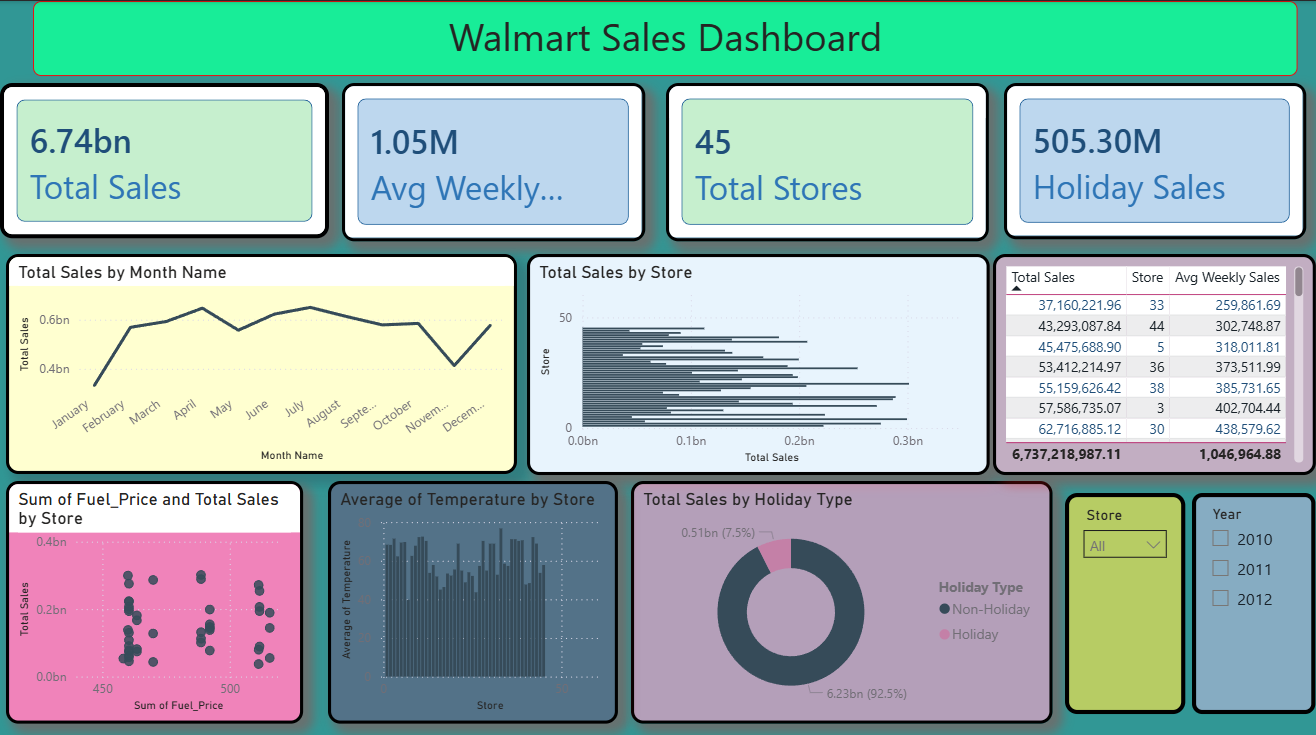

This screenshot's page, from the dashboard's own definition file:
{"tool":"powerbi","page":{"name":"Page 1","canvas":[1280,720],"ordinal":0},"visuals":[{"type":"cardVisual","fields":{"Data":["Walmart.Total Sales"]},"box":[0,79.8,320,151],"z":0},{"type":"cardVisual","fields":{"Data":["Walmart.Avg Weekly Sales"]},"box":[332.6,79.8,294.7,153.7],"z":1000},{"type":"cardVisual","fields":{"Data":["Walmart.Total Stores"]},"box":[647.8,79.8,314.2,153.7],"z":2000},{"type":"cardVisual","fields":{"Data":["Walmart.Holiday Sales"]},"box":[976.5,79.8,293.7,151.7],"z":3000},{"type":"lineChart","fields":{"Y":["Walmart.Total Sales"],"Category":["Walmart.Month Name"]},"box":[5.7,245.7,497,213.5],"z":4000},{"type":"clusteredBarChart","fields":{"Category":["Walmart.Store"],"Y":["Walmart.Total Sales"]},"box":[512.1,245.7,449.8,215.4],"z":5000},{"type":"slicer","fields":{"Values":["Walmart.Year"]},"box":[1159.4,478.5,119.6,215],"z":6000},{"type":"donutChart","fields":{"Y":["Walmart.Total Sales"],"Category":["Walmart.Holiday Type"]},"box":[614.2,466.8,410.1,236.2],"z":7000},{"type":"tableEx","fields":{"Values":["Walmart.Total Sales","Walmart.Store","Walmart.Avg Weekly Sales"]},"box":[965.8,246.1,314.2,215],"z":8000},{"type":"slicer","fields":{"Values":["Walmart.Store"]},"box":[1035.9,478.5,116.7,215],"z":9000},{"type":"textbox","box":[32.1,0,1230.4,72.9],"z":10000},{"type":"scatterChart","fields":{"X":["Sum(Walmart.Fuel_Price)"],"Y":["Walmart.Total Sales"],"Category":["Walmart.Store"]},"box":[5.7,466.8,289.1,236.2],"z":11000},{"type":"clusteredColumnChart","fields":{"Category":["Walmart.Store"],"Y":["Avg(Walmart.Temperature)"]},"box":[319.4,466.8,281.6,236.2],"z":12000}]}

Visuals, with their boxes in screenshot pixels (x1, y1, x2, y2), scaled from the page's 1280x720 canvas onto the 1316x735 screenshot:
cardVisual - Walmart.Total Sales: bbox(0, 81, 329, 236)
cardVisual - Walmart.Avg Weekly Sales: bbox(342, 81, 645, 238)
cardVisual - Walmart.Total Stores: bbox(666, 81, 989, 238)
cardVisual - Walmart.Holiday Sales: bbox(1004, 81, 1306, 236)
lineChart - Walmart.Total Sales x Walmart.Month Name: bbox(6, 251, 517, 469)
clusteredBarChart - Walmart.Store x Walmart.Total Sales: bbox(527, 251, 989, 471)
slicer - Walmart.Year: bbox(1192, 488, 1315, 708)
donutChart - Walmart.Total Sales x Walmart.Holiday Type: bbox(631, 477, 1053, 718)
tableEx - Walmart.Total Sales x Walmart.Store: bbox(993, 251, 1315, 471)
slicer - Walmart.Store: bbox(1065, 488, 1185, 708)
textbox: bbox(33, 0, 1298, 74)
scatterChart - Sum(Walmart.Fuel_Price) x Walmart.Total Sales: bbox(6, 477, 303, 718)
clusteredColumnChart - Walmart.Store x Avg(Walmart.Temperature): bbox(328, 477, 618, 718)
